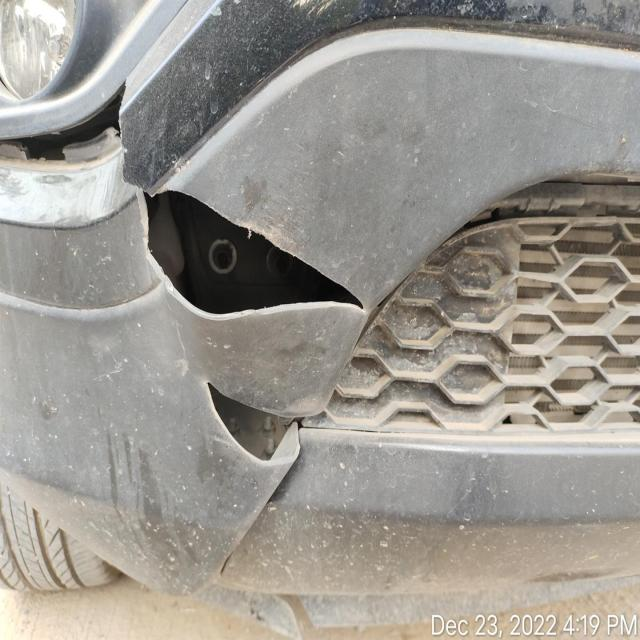damage: (127, 181, 366, 317), (0, 84, 124, 167), (206, 383, 322, 470)
